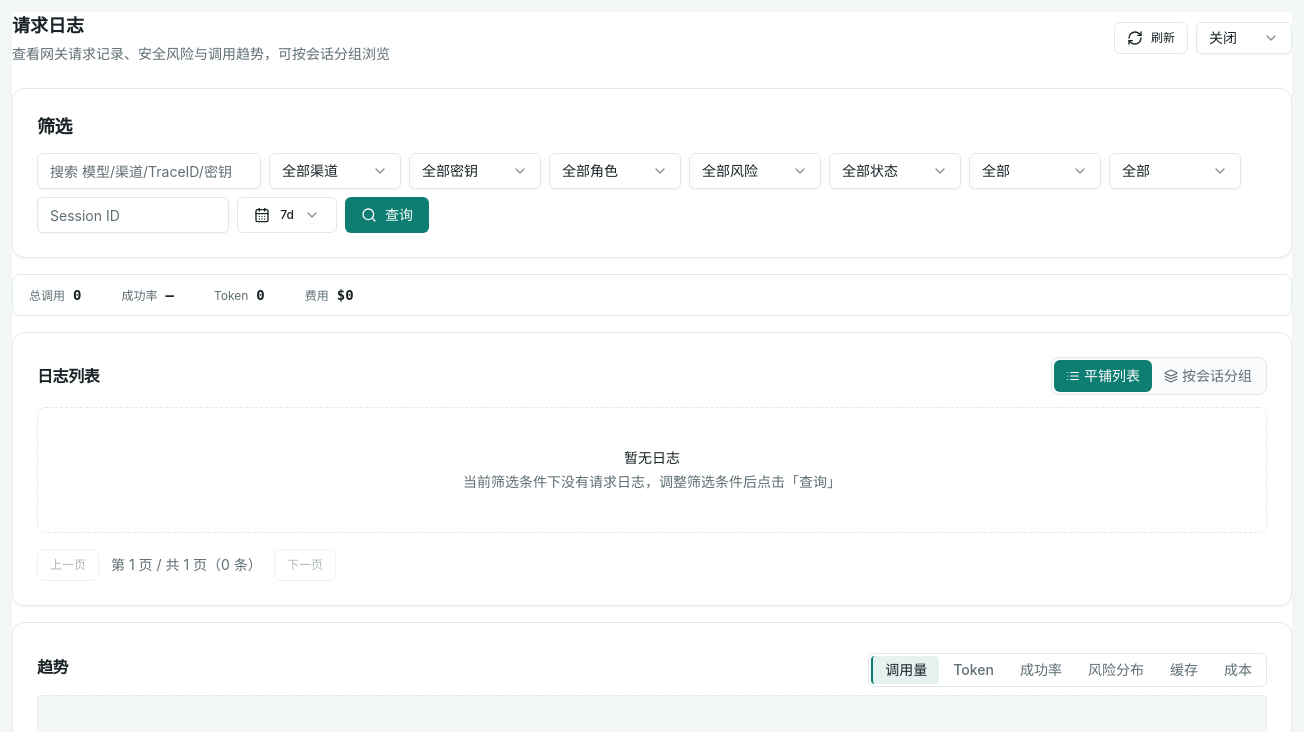
Test: LogsPage › 角色筛选下拉包含 auto 选项
Click the dropdown labelled "角色" at coordinates (615, 171), box [549, 153, 681, 189]
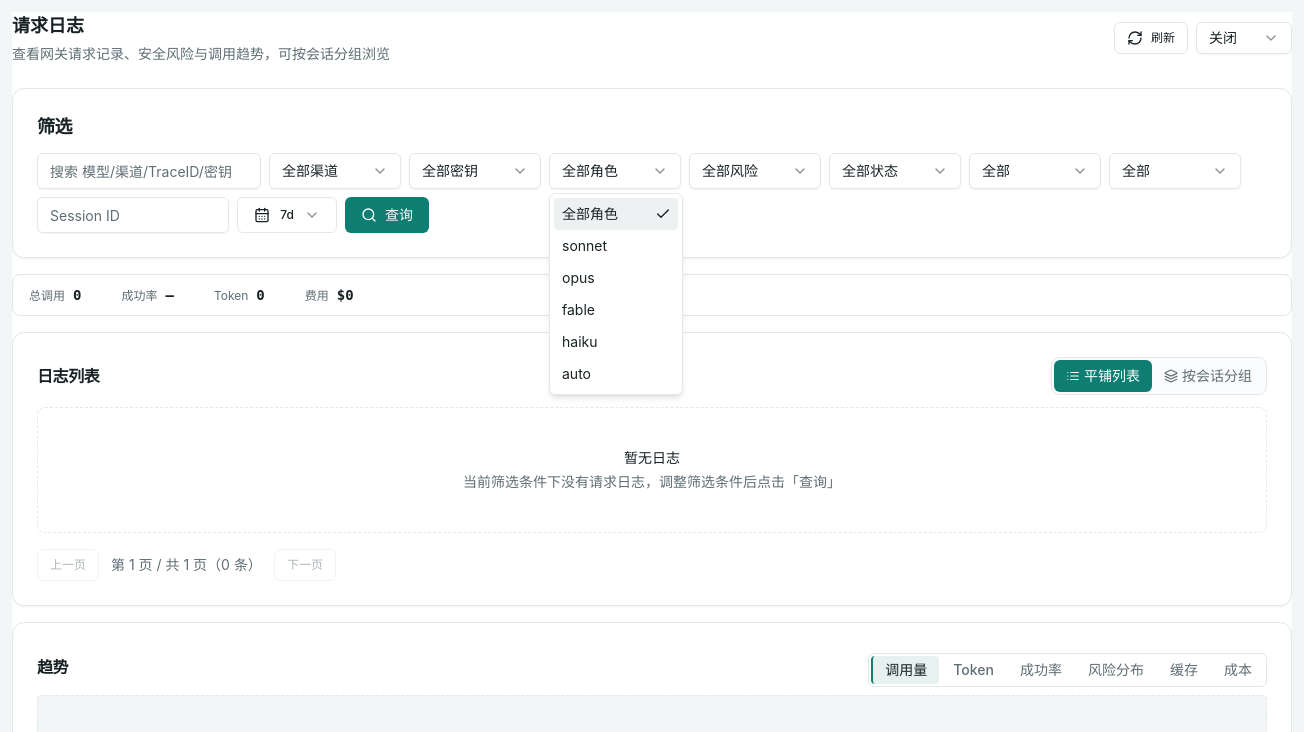
Expected: the option "auto" is shown, [562, 365, 591, 382]
